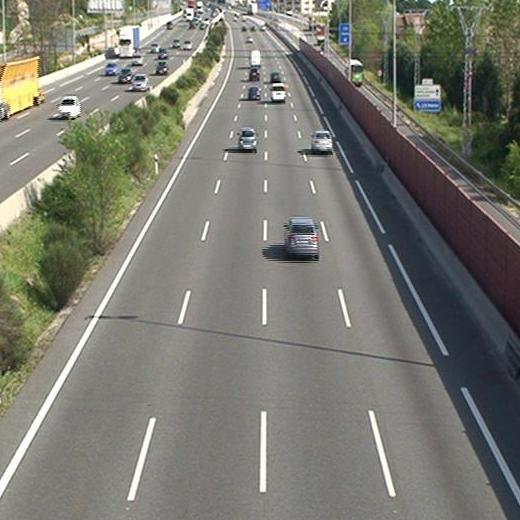car: (285, 218, 317, 254), (238, 128, 256, 150), (313, 132, 332, 152), (271, 83, 286, 102), (247, 87, 259, 98), (269, 72, 281, 82), (250, 67, 259, 79)
van: (249, 49, 260, 66)
